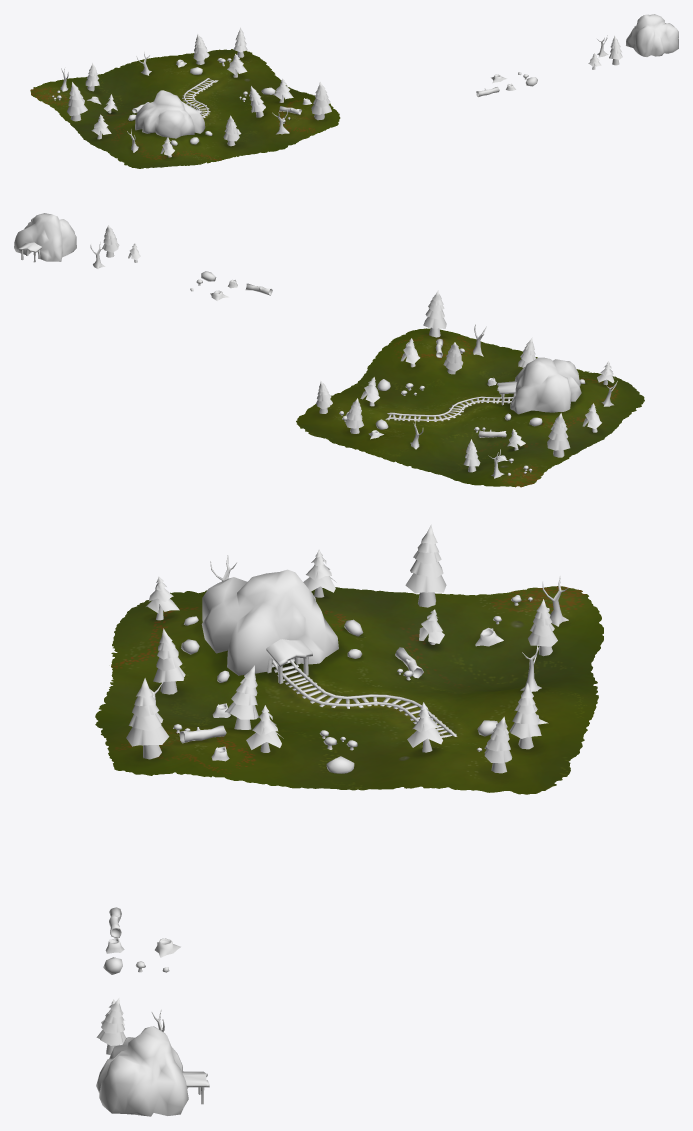
File: Forest Mine.fbx
3 views of the same model, one above another, from view 1: azimuth 30°, elevation 25°; view 2: azimuth 150°, elevation 25°; view 3: azimuth 270°, elevation 25° (orthographic). The views are drawn at different scales.
Parts seen in each view (by area): view 1: Plane.001, Plane, Mine, Cylinder.005, Cylinder.009, Cylinder.002, Cylinder.003, Cylinder.006; view 2: Plane.001, Plane, Mine, Cylinder.009, Cylinder.005; view 3: Plane.001, Plane, Mine, Cylinder.009, Cylinder.005, Cylinder.006, Cylinder.002, Cylinder.003, Cylinder.004, Cylinder.007, Tree_1, Cylinder.010 (+1 smaller).
Boxes of the visible parts, box(x1,y1,x2,y2) form: Plane.001: box(30, 49, 340, 168); Plane: box(135, 78, 218, 138); Mine: box(626, 14, 678, 56); Cylinder.005: box(67, 82, 87, 121); Cylinder.009: box(311, 82, 331, 120); Cylinder.002: box(249, 86, 265, 117); Cylinder.003: box(193, 34, 209, 64); Cylinder.006: box(223, 115, 239, 146); Plane.001: box(296, 328, 644, 487); Plane: box(385, 357, 581, 421); Mine: box(14, 213, 76, 262); Cylinder.009: box(423, 290, 446, 337); Cylinder.005: box(547, 413, 570, 457); Plane.001: box(95, 586, 603, 794); Plane: box(201, 569, 457, 737); Mine: box(96, 1026, 209, 1116); Cylinder.009: box(126, 678, 169, 759); Cylinder.005: box(405, 524, 446, 607); Cylinder.006: box(153, 628, 185, 694); Cylinder.002: box(225, 665, 258, 729); Cylinder.003: box(509, 683, 541, 749); Cylinder.004: box(484, 716, 512, 773); Cylinder.007: box(528, 599, 557, 656); Tree_1: box(96, 998, 125, 1054); Cylinder.010: box(246, 705, 283, 752).
Bounding box in the file's own units: 4903 × 495 × 2000.
